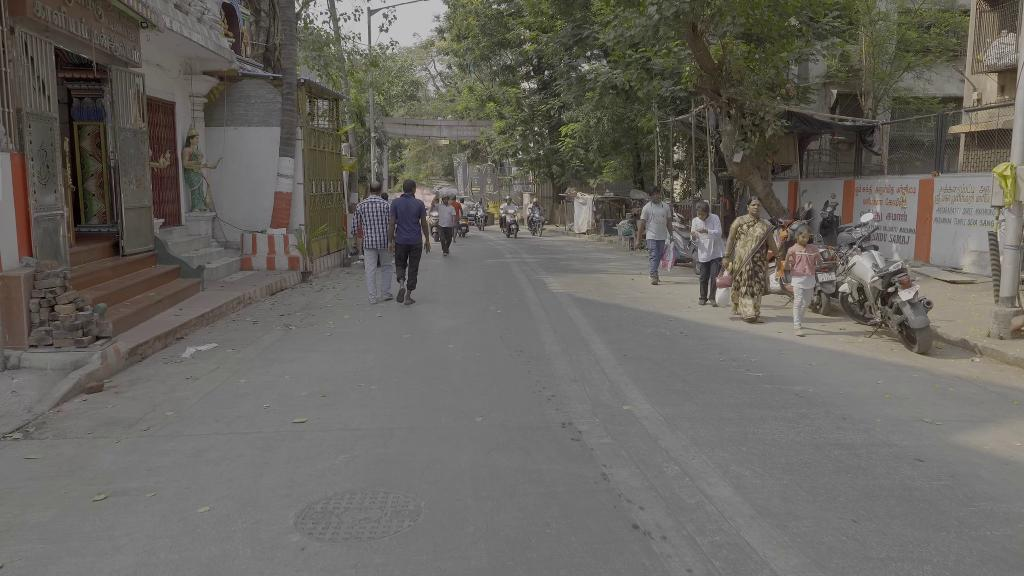garbage: (660, 238, 677, 273), (429, 185, 459, 200)
